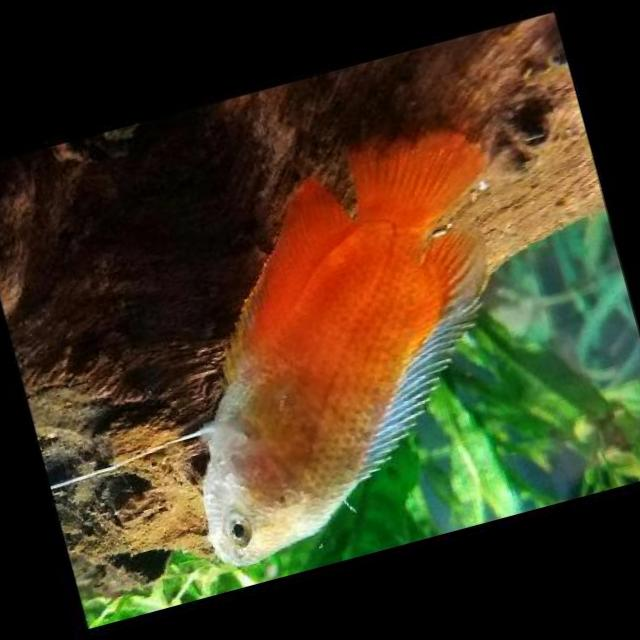Gourami: (117, 126, 568, 578)
